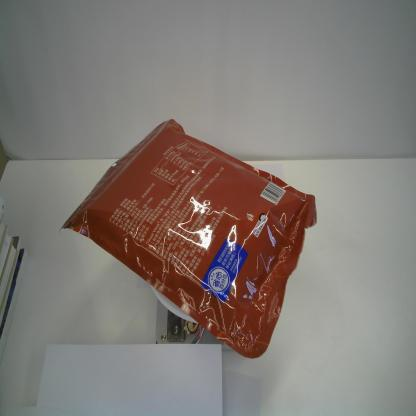Dried Food: (60, 117, 319, 361)
